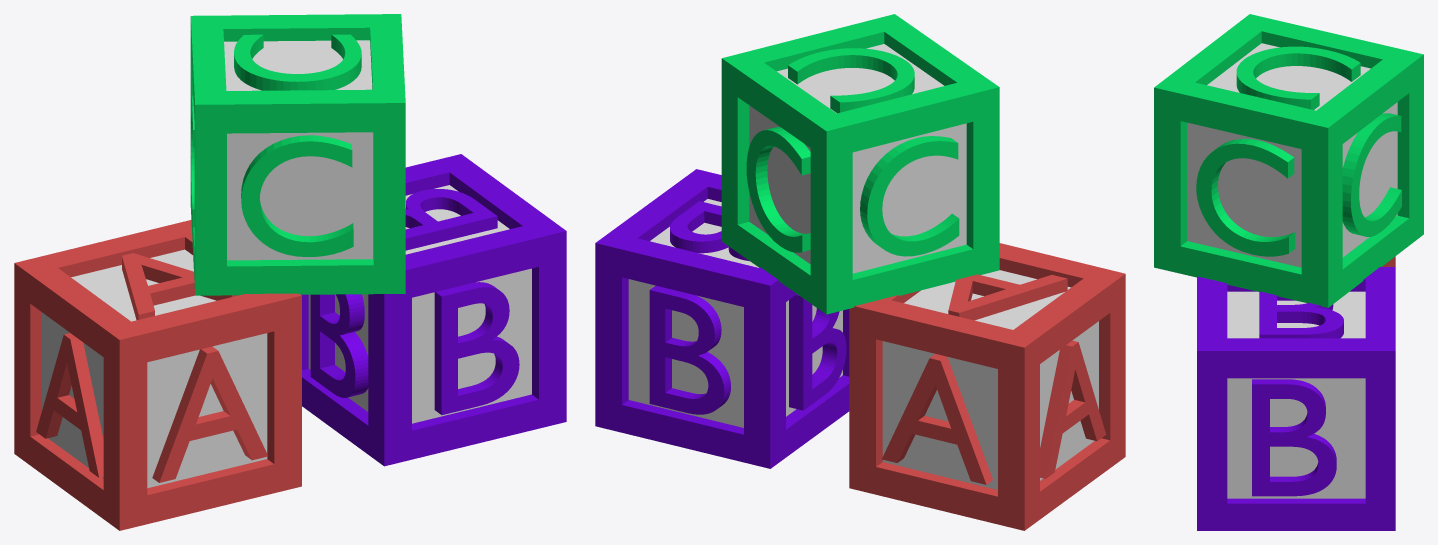
Rendered from ABC_Spielwuerfel.dae.
The picture shows the model from 3 angles, left to right: view 1: azimuth 30°, elevation 25°; view 2: azimuth 150°, elevation 25°; view 3: azimuth 270°, elevation 25°; orthographic projection. The views are drawn at different scales.
Parts seen in each view (by area): view 1: Cube, Cube_005, Cube_002, Cube_004, Cube_001, Cube_003, Font_006, Font, Font_012, Font_007, Font_001, Font_016 (+2 smaller); view 2: Cube_005, Cube, Cube_002, Cube_004, Cube_001, Cube_003, Font_008, Font_003, Font_013, Font_007, Font_001, Font_016 (+3 smaller); view 3: Cube_005, Cube_002, Cube_004, Cube_003, Font_009, Font_015, Font_016, Font_014, Font_011.
Part boxes in pixels (x1,y1,x2,y2): Cube: [14, 220, 301, 530]; Cube_005: [190, 14, 405, 295]; Cube_002: [301, 154, 566, 466]; Cube_004: [224, 40, 373, 260]; Cube_001: [42, 249, 267, 488]; Cube_003: [308, 185, 531, 423]; Font_006: [434, 282, 519, 414]; Font: [152, 346, 267, 482]; Font_012: [241, 135, 353, 256]; Font_007: [310, 294, 368, 397]; Font_001: [36, 333, 103, 477]; Font_016: [234, 34, 361, 90]; Cube_005: [721, 14, 999, 314]; Cube: [849, 243, 1125, 530]; Cube_002: [595, 169, 849, 468]; Cube_004: [749, 44, 966, 273]; Cube_001: [882, 270, 1098, 489]; Cube_003: [628, 199, 842, 427]; Font_008: [649, 285, 730, 414]; Font_003: [882, 354, 992, 484]; Font_013: [860, 136, 959, 256]; Font_007: [789, 294, 846, 410]; Font_001: [1040, 340, 1105, 478]; Font_016: [788, 48, 914, 113]; Cube_005: [1154, 14, 1423, 307]; Cube_002: [1197, 267, 1395, 530]; Cube_004: [1187, 43, 1397, 267]; Cube_003: [1227, 291, 1365, 498]; Font_009: [1252, 379, 1336, 496]; Font_015: [1196, 138, 1295, 256]; Font_016: [1236, 46, 1360, 109]; Font_014: [1342, 113, 1401, 236]; Font_011: [1259, 291, 1343, 338].
Size of the model in its own units: 5.16 by 2.86 by 4.21.
